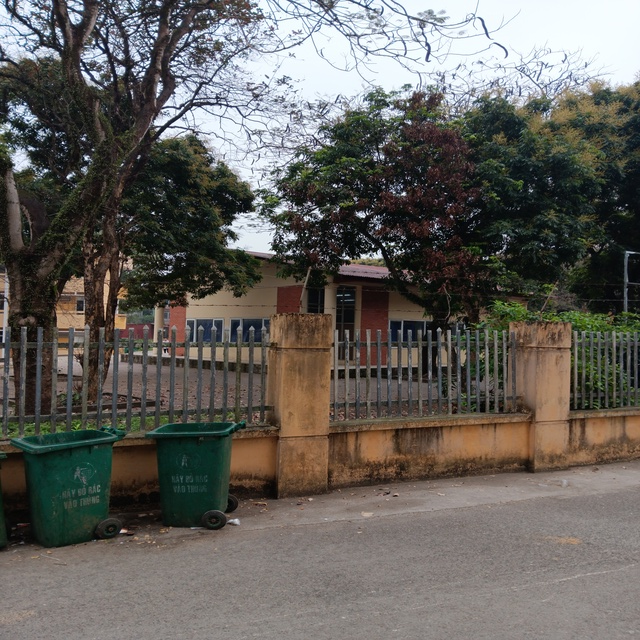thungrac: (9, 426, 124, 545), (151, 422, 244, 525)
